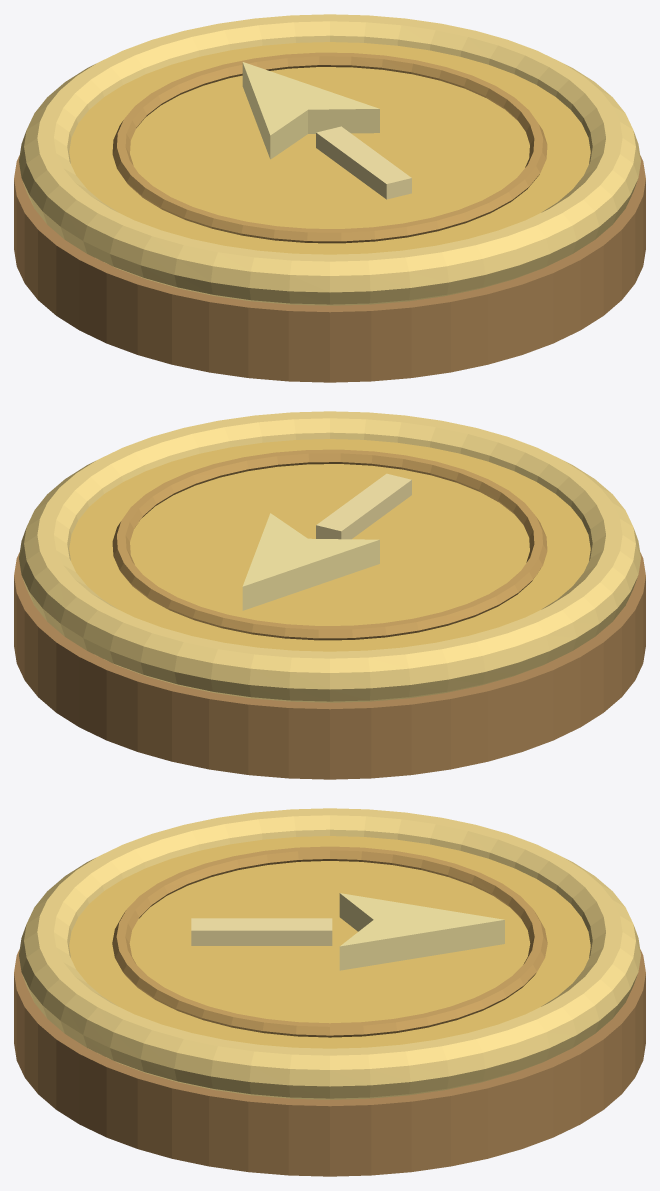
Rendered from token_doubloon.glb.
3 renders of one model, top to bottom at view 1: azimuth 30°, elevation 25°; view 2: azimuth 150°, elevation 25°; view 3: azimuth 270°, elevation 25°, orthographic.
Visible parts, largest first — view 1: Doubloon_Gold_Face, Doubloon_Rim, Doubloon_Bronze_Core, Doubloon_Inner_Ring, Doubloon_Arrow, Doubloon_Emblem_Stem; view 2: Doubloon_Gold_Face, Doubloon_Rim, Doubloon_Bronze_Core, Doubloon_Inner_Ring, Doubloon_Arrow, Doubloon_Emblem_Stem; view 3: Doubloon_Gold_Face, Doubloon_Rim, Doubloon_Bronze_Core, Doubloon_Inner_Ring, Doubloon_Arrow, Doubloon_Emblem_Stem.
Boxes of the visible parts, <box> form: Doubloon_Gold_Face: <box>69,42,590,254</box>; Doubloon_Rim: <box>19,14,640,305</box>; Doubloon_Bronze_Core: <box>14,155,645,382</box>; Doubloon_Inner_Ring: <box>112,52,547,243</box>; Doubloon_Arrow: <box>242,62,379,159</box>; Doubloon_Emblem_Stem: <box>316,126,411,199</box>; Doubloon_Gold_Face: <box>69,439,590,651</box>; Doubloon_Rim: <box>19,411,640,702</box>; Doubloon_Bronze_Core: <box>14,552,645,779</box>; Doubloon_Inner_Ring: <box>112,449,547,640</box>; Doubloon_Arrow: <box>242,513,379,610</box>; Doubloon_Emblem_Stem: <box>316,473,411,539</box>; Doubloon_Gold_Face: <box>69,836,590,1048</box>; Doubloon_Rim: <box>19,808,640,1099</box>; Doubloon_Bronze_Core: <box>14,949,645,1176</box>; Doubloon_Inner_Ring: <box>112,846,547,1037</box>; Doubloon_Arrow: <box>339,893,504,970</box>; Doubloon_Emblem_Stem: <box>191,918,332,945</box>.
Bounding box in the file's own units: 1.3 × 0.28 × 1.3.
